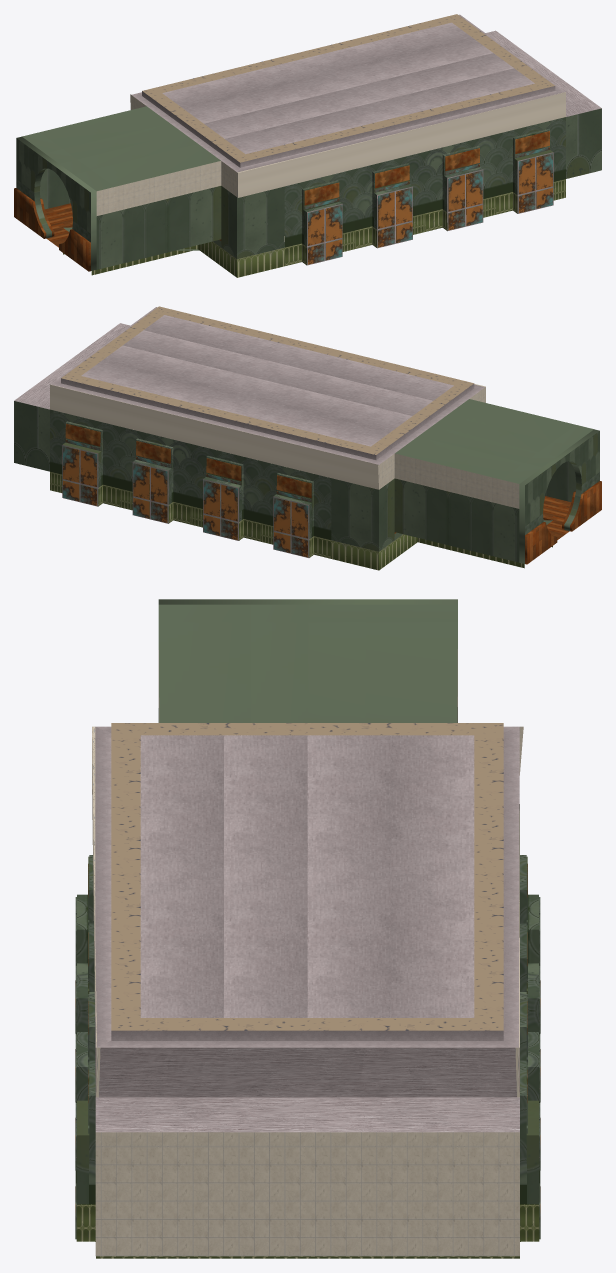
Rendered from ElevatorRoom.fbx.
3 views of the same model, one above another, from view 1: azimuth 30°, elevation 25°; view 2: azimuth 150°, elevation 25°; view 3: azimuth 270°, elevation 25° (orthographic). The views are drawn at different scales.
Parts seen in each view (by area): view 1: Cylinder.014; view 2: Cylinder.014; view 3: Cylinder.014.
Part boxes in pixels (x1,y1,x2,y2): Cylinder.014: (14, 14, 601, 277); Cylinder.014: (14, 306, 601, 570); Cylinder.014: (75, 599, 540, 1258).
Bounding box in the file's own units: 6928 × 1473 × 2805.
